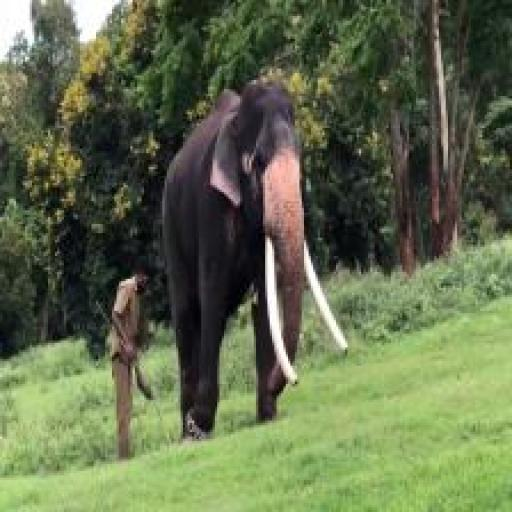Elephant: (151, 62, 347, 444)
